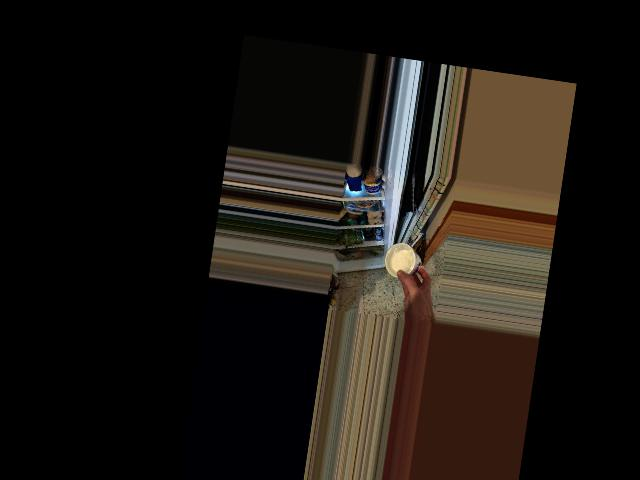cotage: (385, 240, 428, 279)
